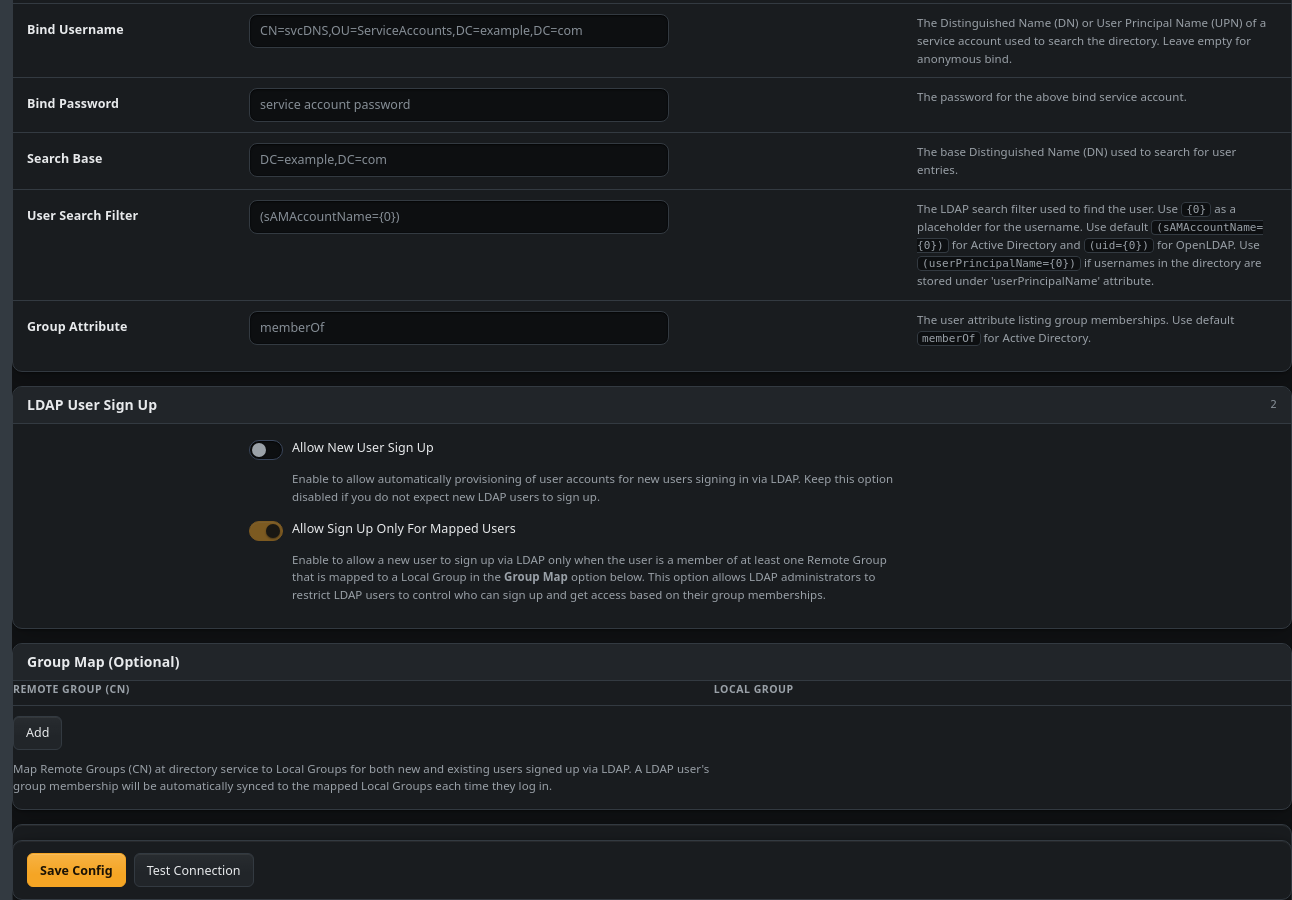
LDAP: enable rules, on load and on change › "Allow Sign Up Only For Mapped Users" is disabled while sign-up is off, and still checked
The width and height of the screenshot is (1292, 900).
(page scrolled)
Expected: the checkbox labelled "Allow Sign Up Only For Mapped Users" is disabled, [249,521,283,541]
Expected: the checkbox labelled "Allow Sign Up Only For Mapped Users" is checked, [249,521,283,541]
Click the checkbox labelled "Allow New User Sign Up" at (266,450), box [249,440,283,460]
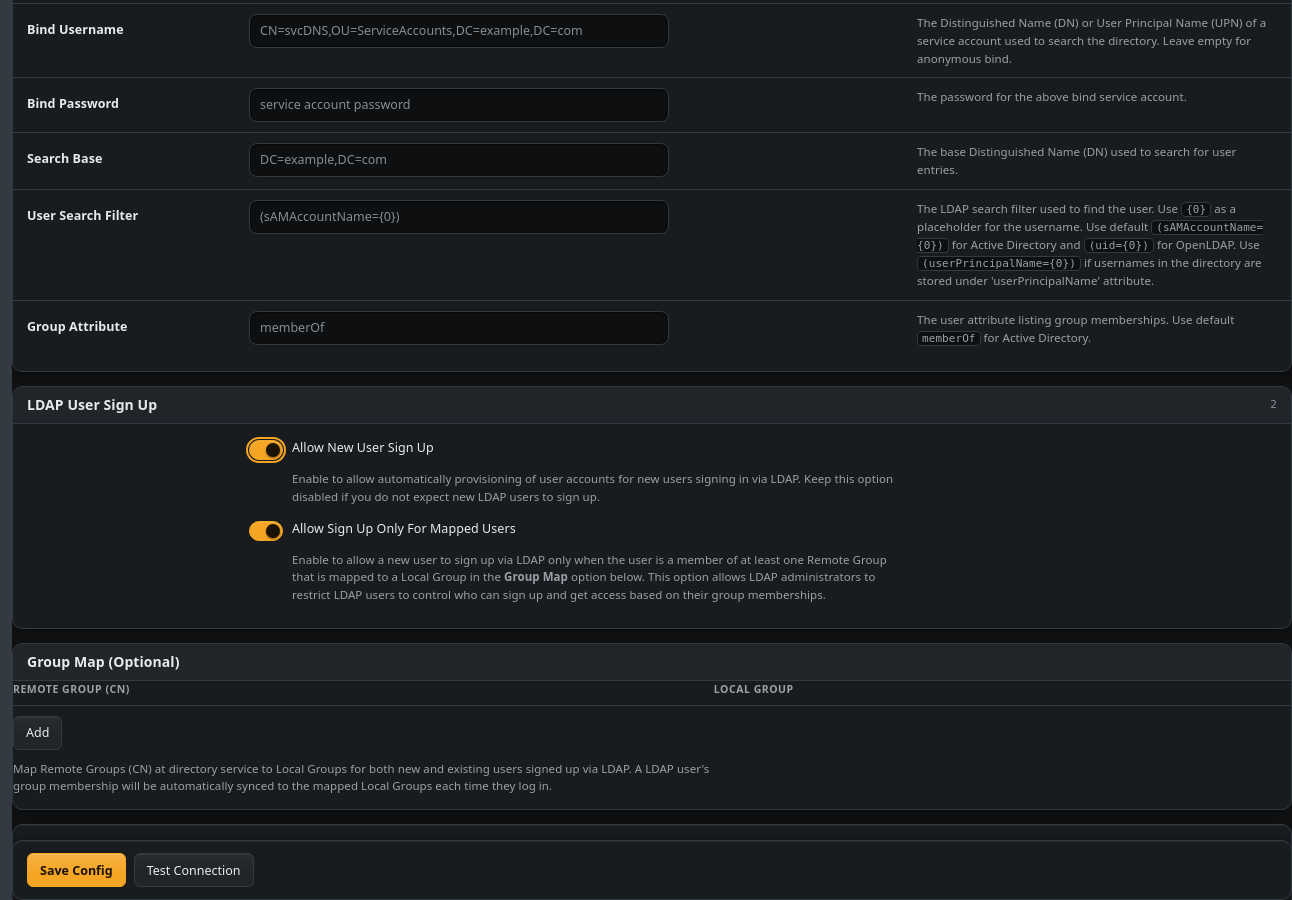
Expected: the checkbox labelled "Allow Sign Up Only For Mapped Users" is enabled, [249,521,283,541]
Click the checkbox labelled "Allow New User Sign Up" at (266,450), box [249,440,283,460]
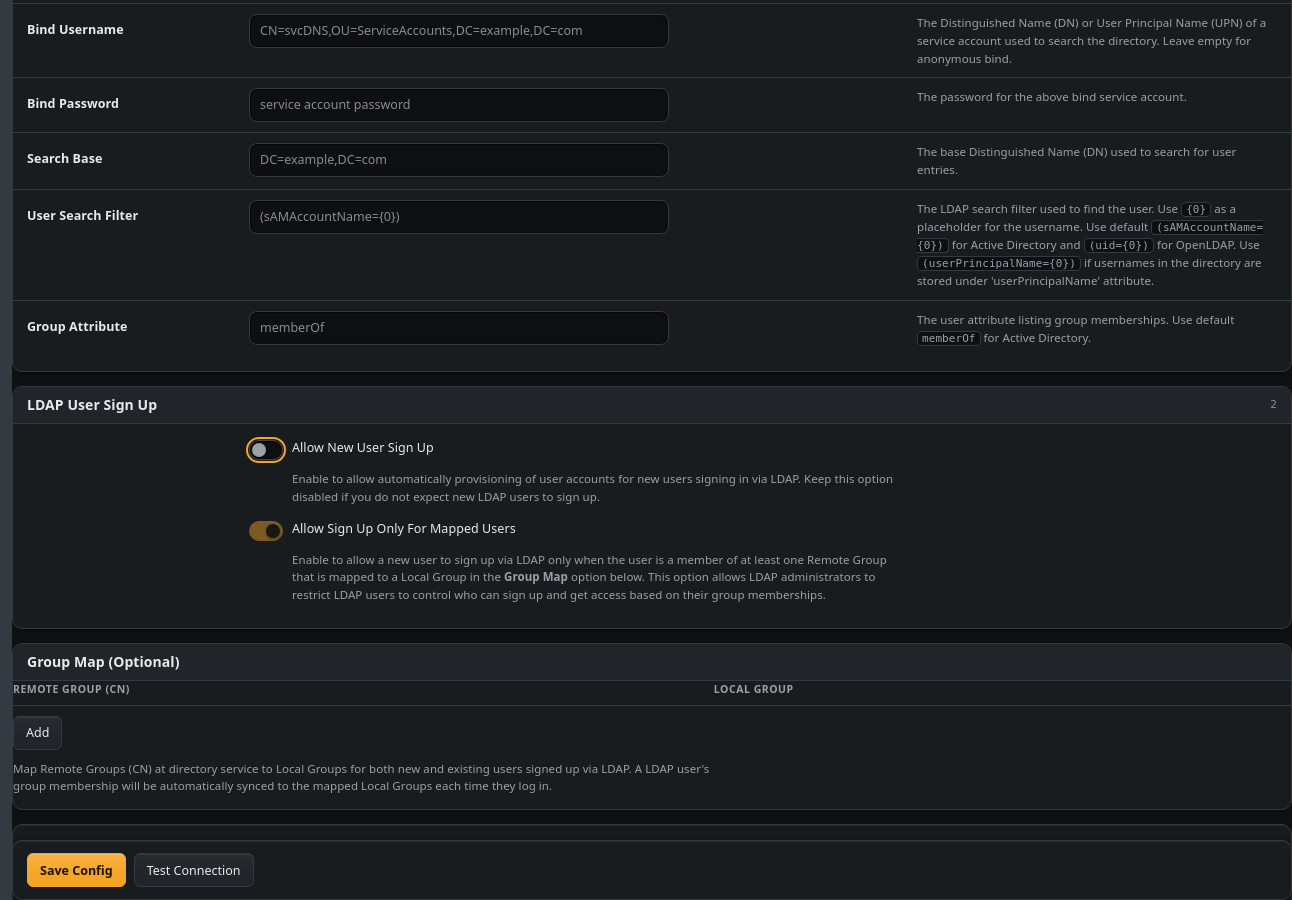
Expected: the checkbox labelled "Allow Sign Up Only For Mapped Users" is disabled, [249,521,283,541]
